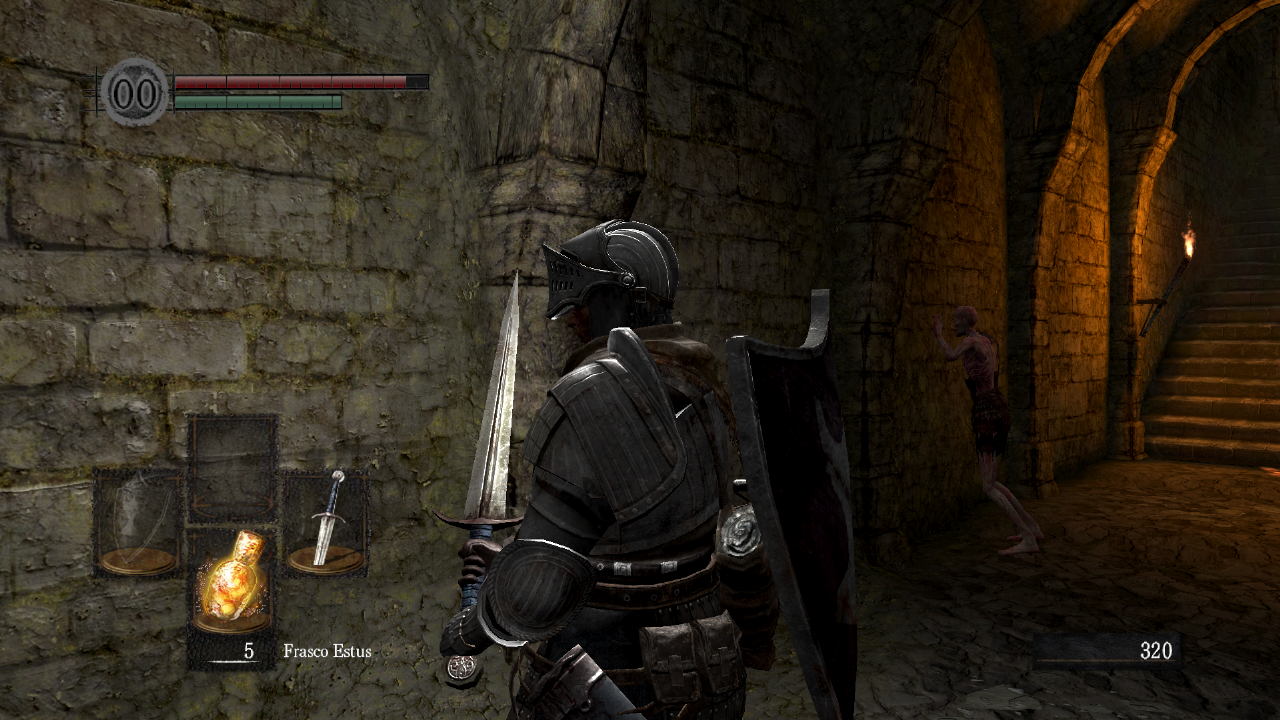hollow: (932, 305, 1046, 555)
player: (432, 216, 860, 720)
